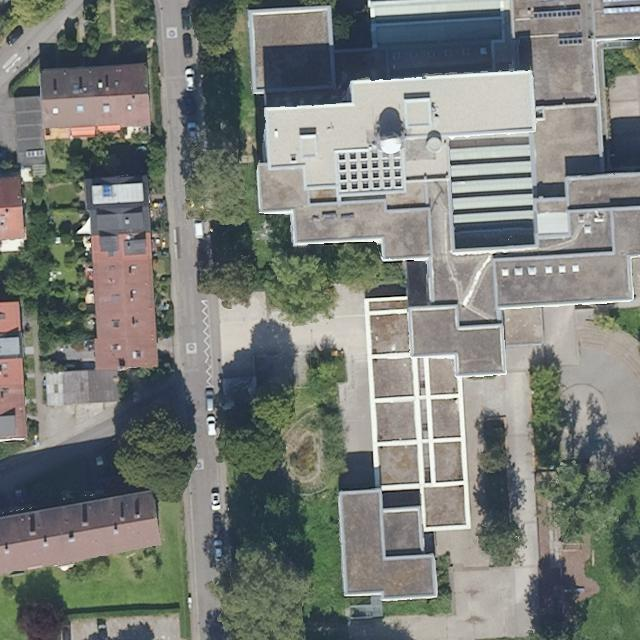PV: (530, 7, 584, 21), (556, 35, 585, 49), (24, 149, 46, 159)
